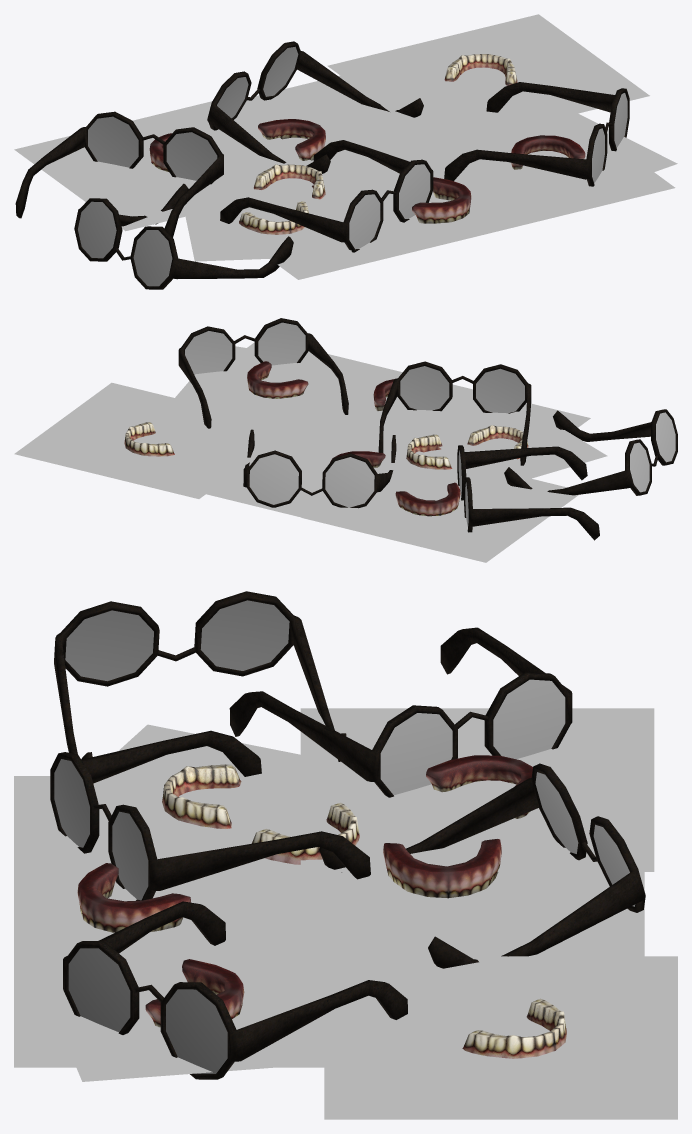
The model's file is specs_teeth.DAE.
3 views of the same model, one above another, from view 1: azimuth 30°, elevation 25°; view 2: azimuth 150°, elevation 25°; view 3: azimuth 270°, elevation 25° (orthographic). The views are drawn at different scales.
Parts seen in each view (by area): view 1: Plane002, Cylinder002, Plane001, Object001, Cylinder005; view 2: Plane002, Cylinder002, Plane001, Object001, Cylinder005; view 3: Plane002, Plane001, Cylinder002, Object001, Cylinder005.
Part boxes in pixels (left/top/right/bottom): Plane002: left=14, top=14, right=677, bottom=261; Cylinder002: left=15, top=41, right=629, bottom=289; Plane001: left=241, top=75, right=675, bottom=279; Object001: left=78, top=46, right=627, bottom=286; Cylinder005: left=149, top=54, right=585, bottom=234; Plane002: left=14, top=346, right=607, bottom=562; Cylinder002: left=178, top=318, right=677, bottom=540; Plane001: left=206, top=342, right=590, bottom=517; Object001: left=185, top=322, right=675, bottom=526; Cylinder005: left=124, top=361, right=528, bottom=516; Plane002: left=37, top=708, right=677, bottom=1119; Plane001: left=14, top=776, right=644, bottom=1067; Cylinder002: left=50, top=591, right=645, bottom=1079; Object001: left=54, top=600, right=635, bottom=1073; Cylinder005: left=77, top=755, right=566, bottom=1058.
Bounding box in the file's own units: 1.03 × 0.1081 × 0.6294.
